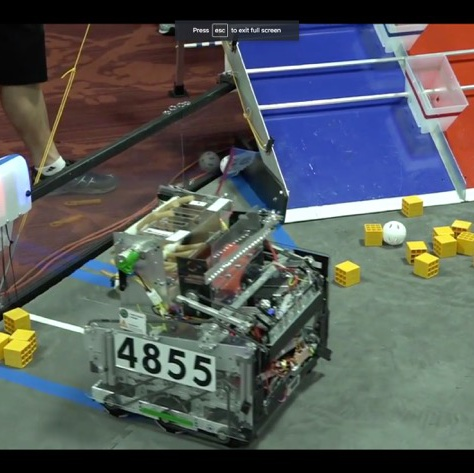robot: (80, 182, 342, 447)
